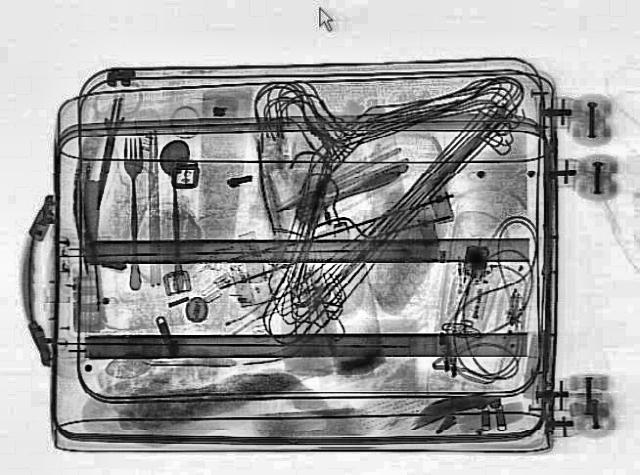Knife: (88, 97, 126, 208)
